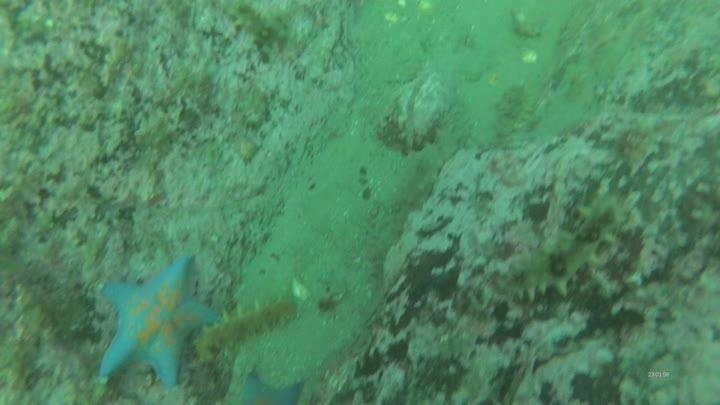holothurian: (491, 189, 634, 307), (390, 114, 473, 213), (191, 295, 300, 365), (220, 1, 293, 55)
starfish: (92, 253, 222, 394), (230, 367, 307, 403)
